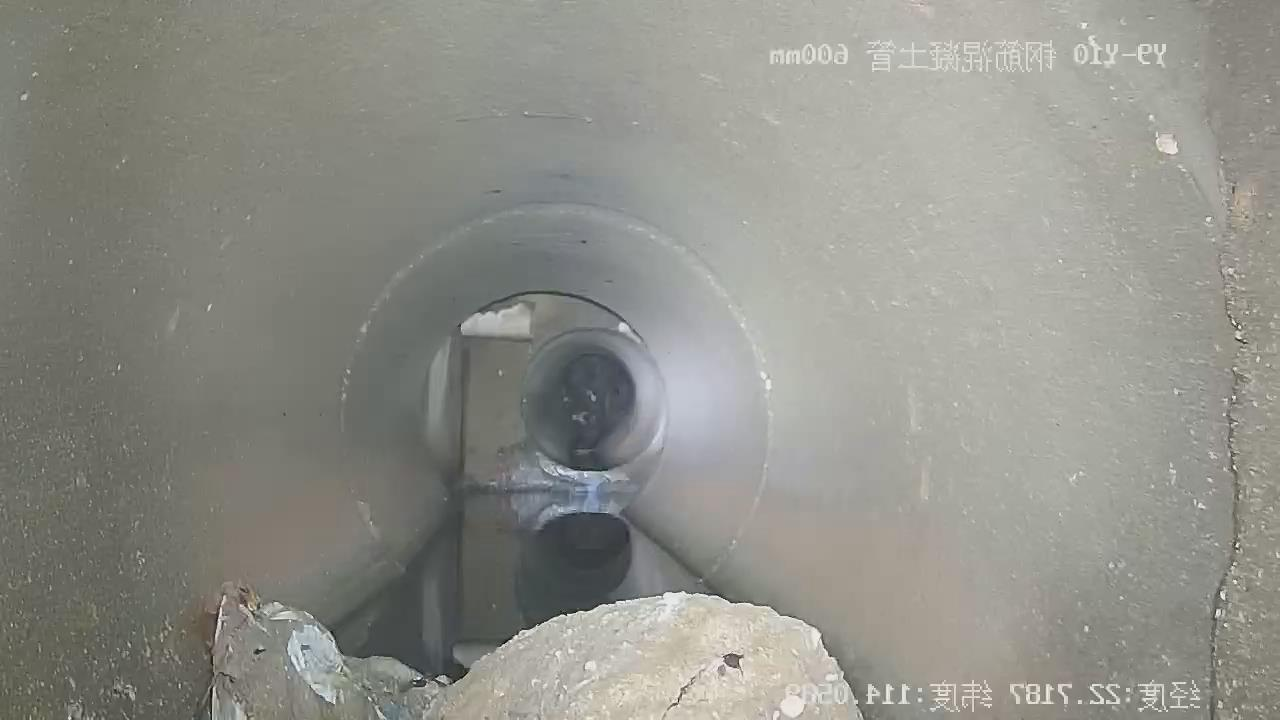ZGAJ: (460, 302, 534, 341)
